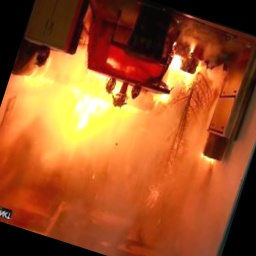fire: (0, 7, 232, 223)
